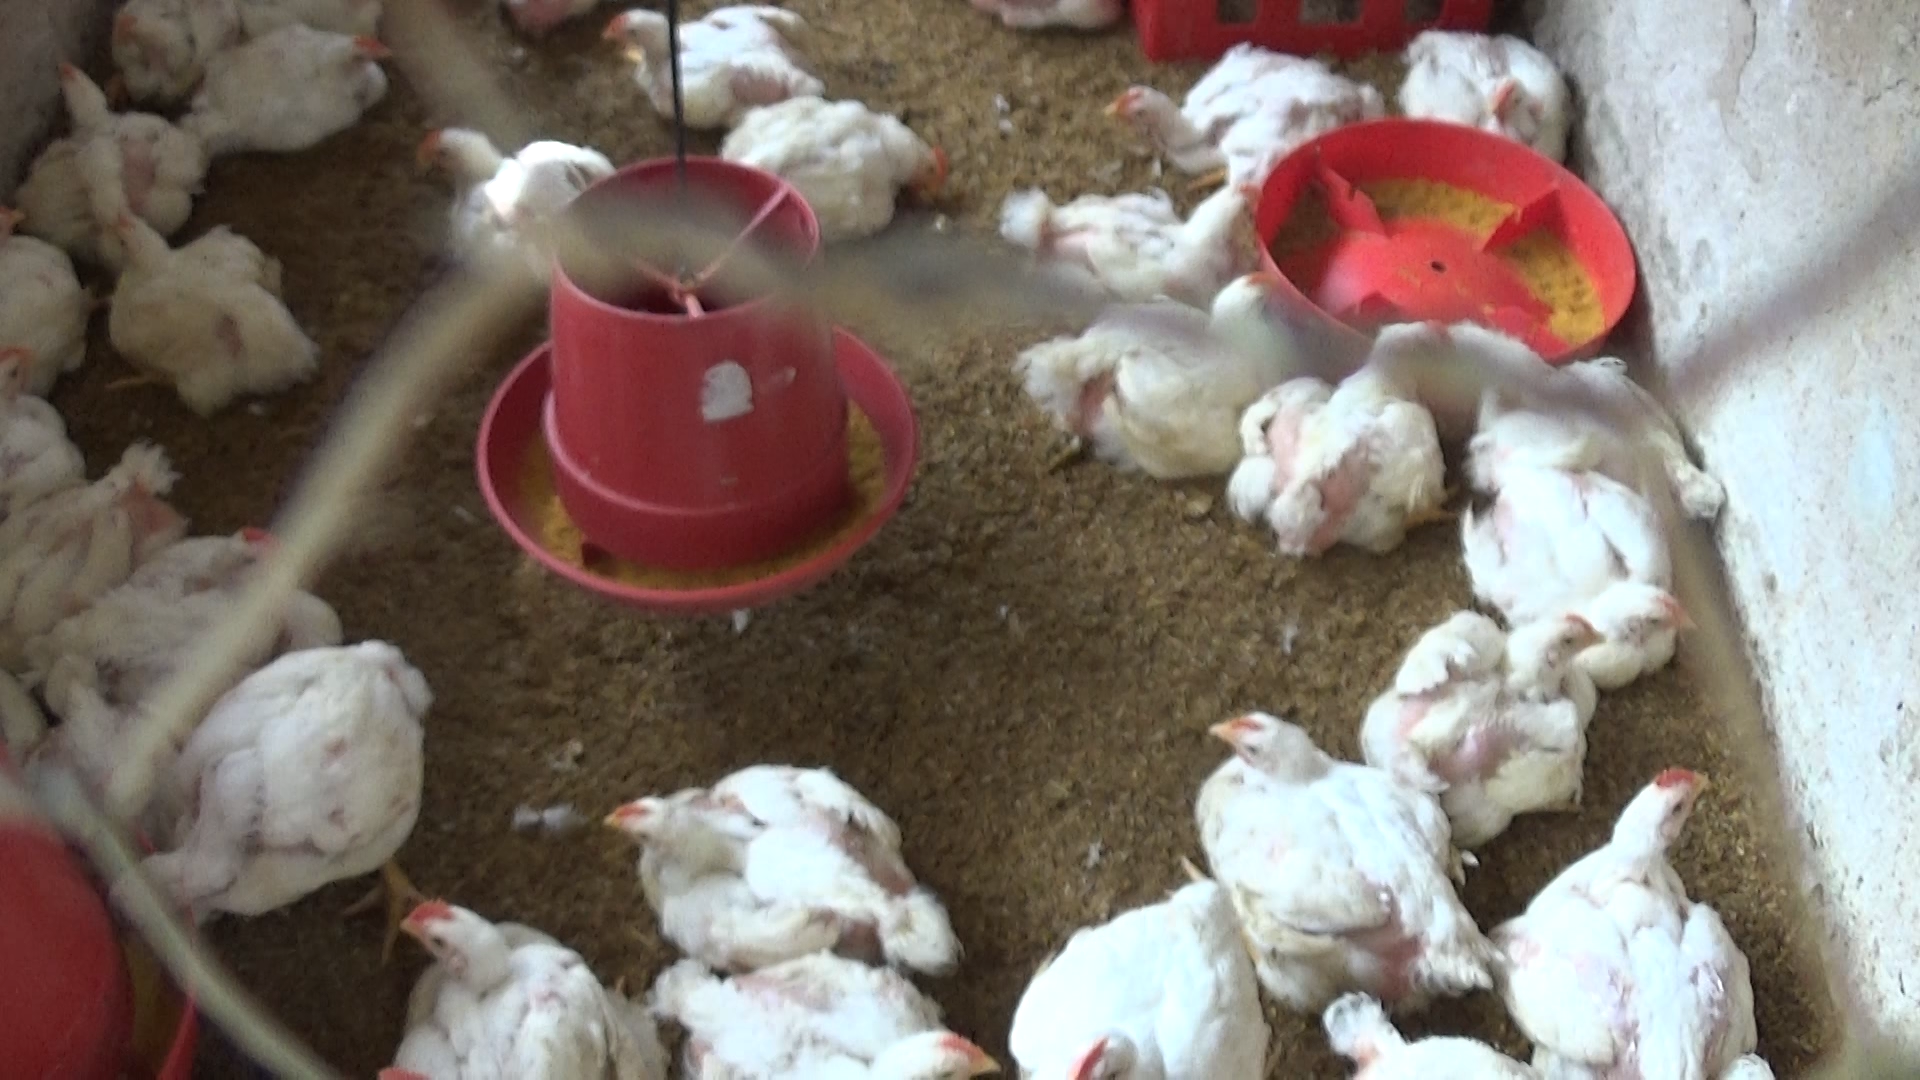Pollos: (1182, 696, 1497, 1018), (127, 622, 435, 942), (1502, 738, 1753, 1080), (603, 728, 953, 971), (1465, 386, 1708, 702), (1207, 309, 1468, 551), (1007, 268, 1302, 477), (1007, 873, 1282, 1080), (75, 196, 331, 413), (1377, 589, 1600, 832), (394, 866, 646, 1080), (632, 938, 1004, 1077), (55, 504, 302, 696), (1092, 33, 1389, 182), (711, 87, 951, 255), (1000, 178, 1265, 314), (1391, 15, 1604, 175), (5, 51, 214, 214), (587, 0, 833, 123), (11, 431, 196, 593), (404, 103, 607, 248), (196, 22, 394, 162), (0, 316, 98, 492)
